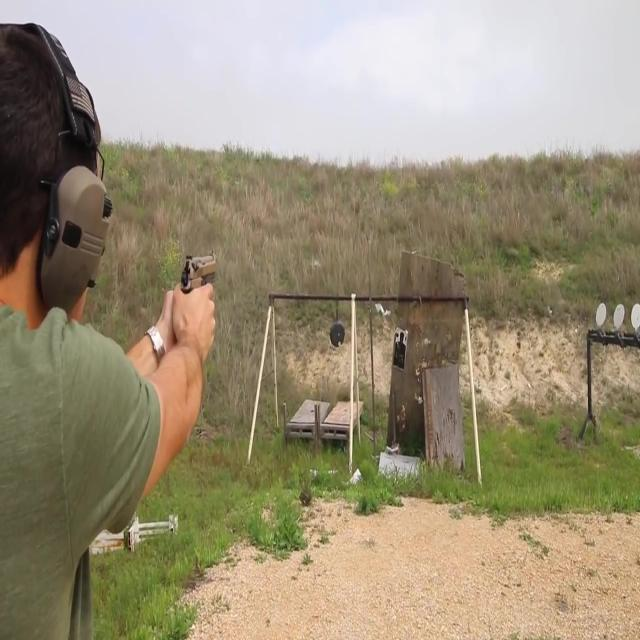Weapon: (169, 236, 250, 358)
